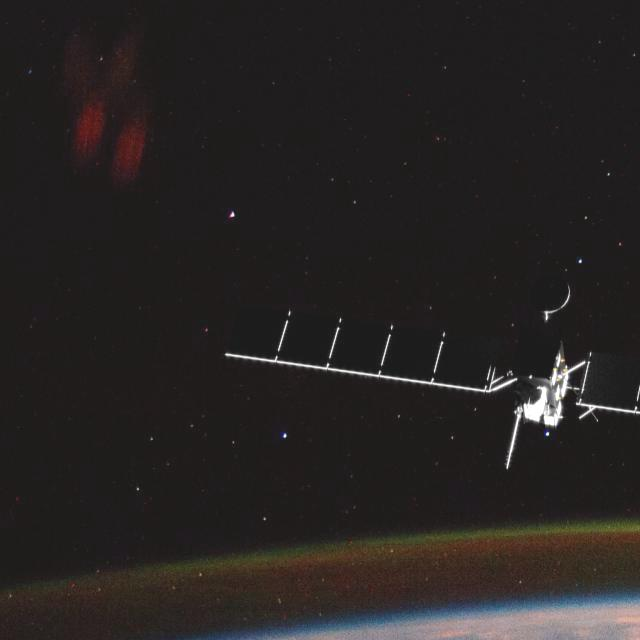medium_debris: (195, 272, 640, 460)
